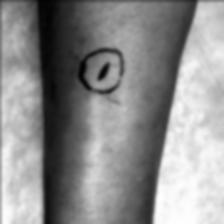Unclassified: (93, 61, 112, 79)
